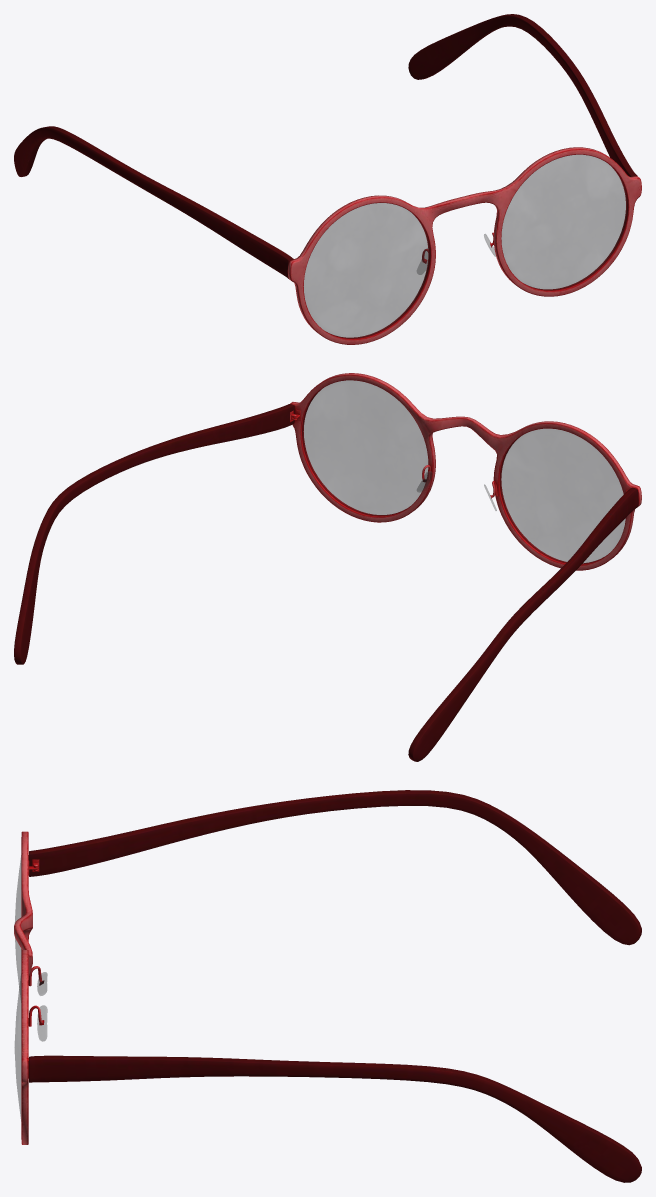
The model's file is nyb_tootsie_glasses.glb.
3 renders of one model, top to bottom at view 1: azimuth 30°, elevation 25°; view 2: azimuth 150°, elevation 25°; view 3: azimuth 270°, elevation 25°, orthographic. The views are drawn at different scales.
Parts seen in each view (by area): view 1: round_spectacles; view 2: round_spectacles; view 3: round_spectacles.
Boxes of the visible parts, box(x1,y1,x2,y2) form: round_spectacles: box(14, 14, 641, 344); round_spectacles: box(14, 373, 641, 761); round_spectacles: box(14, 790, 641, 1182).
Size of the model in its own units: 0.1578 by 0.0463 by 0.149.
2 materials, 2 textured.
